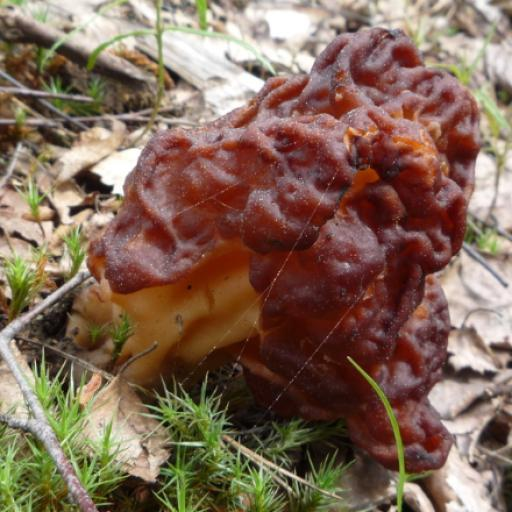mushroom: (90, 23, 481, 481)
